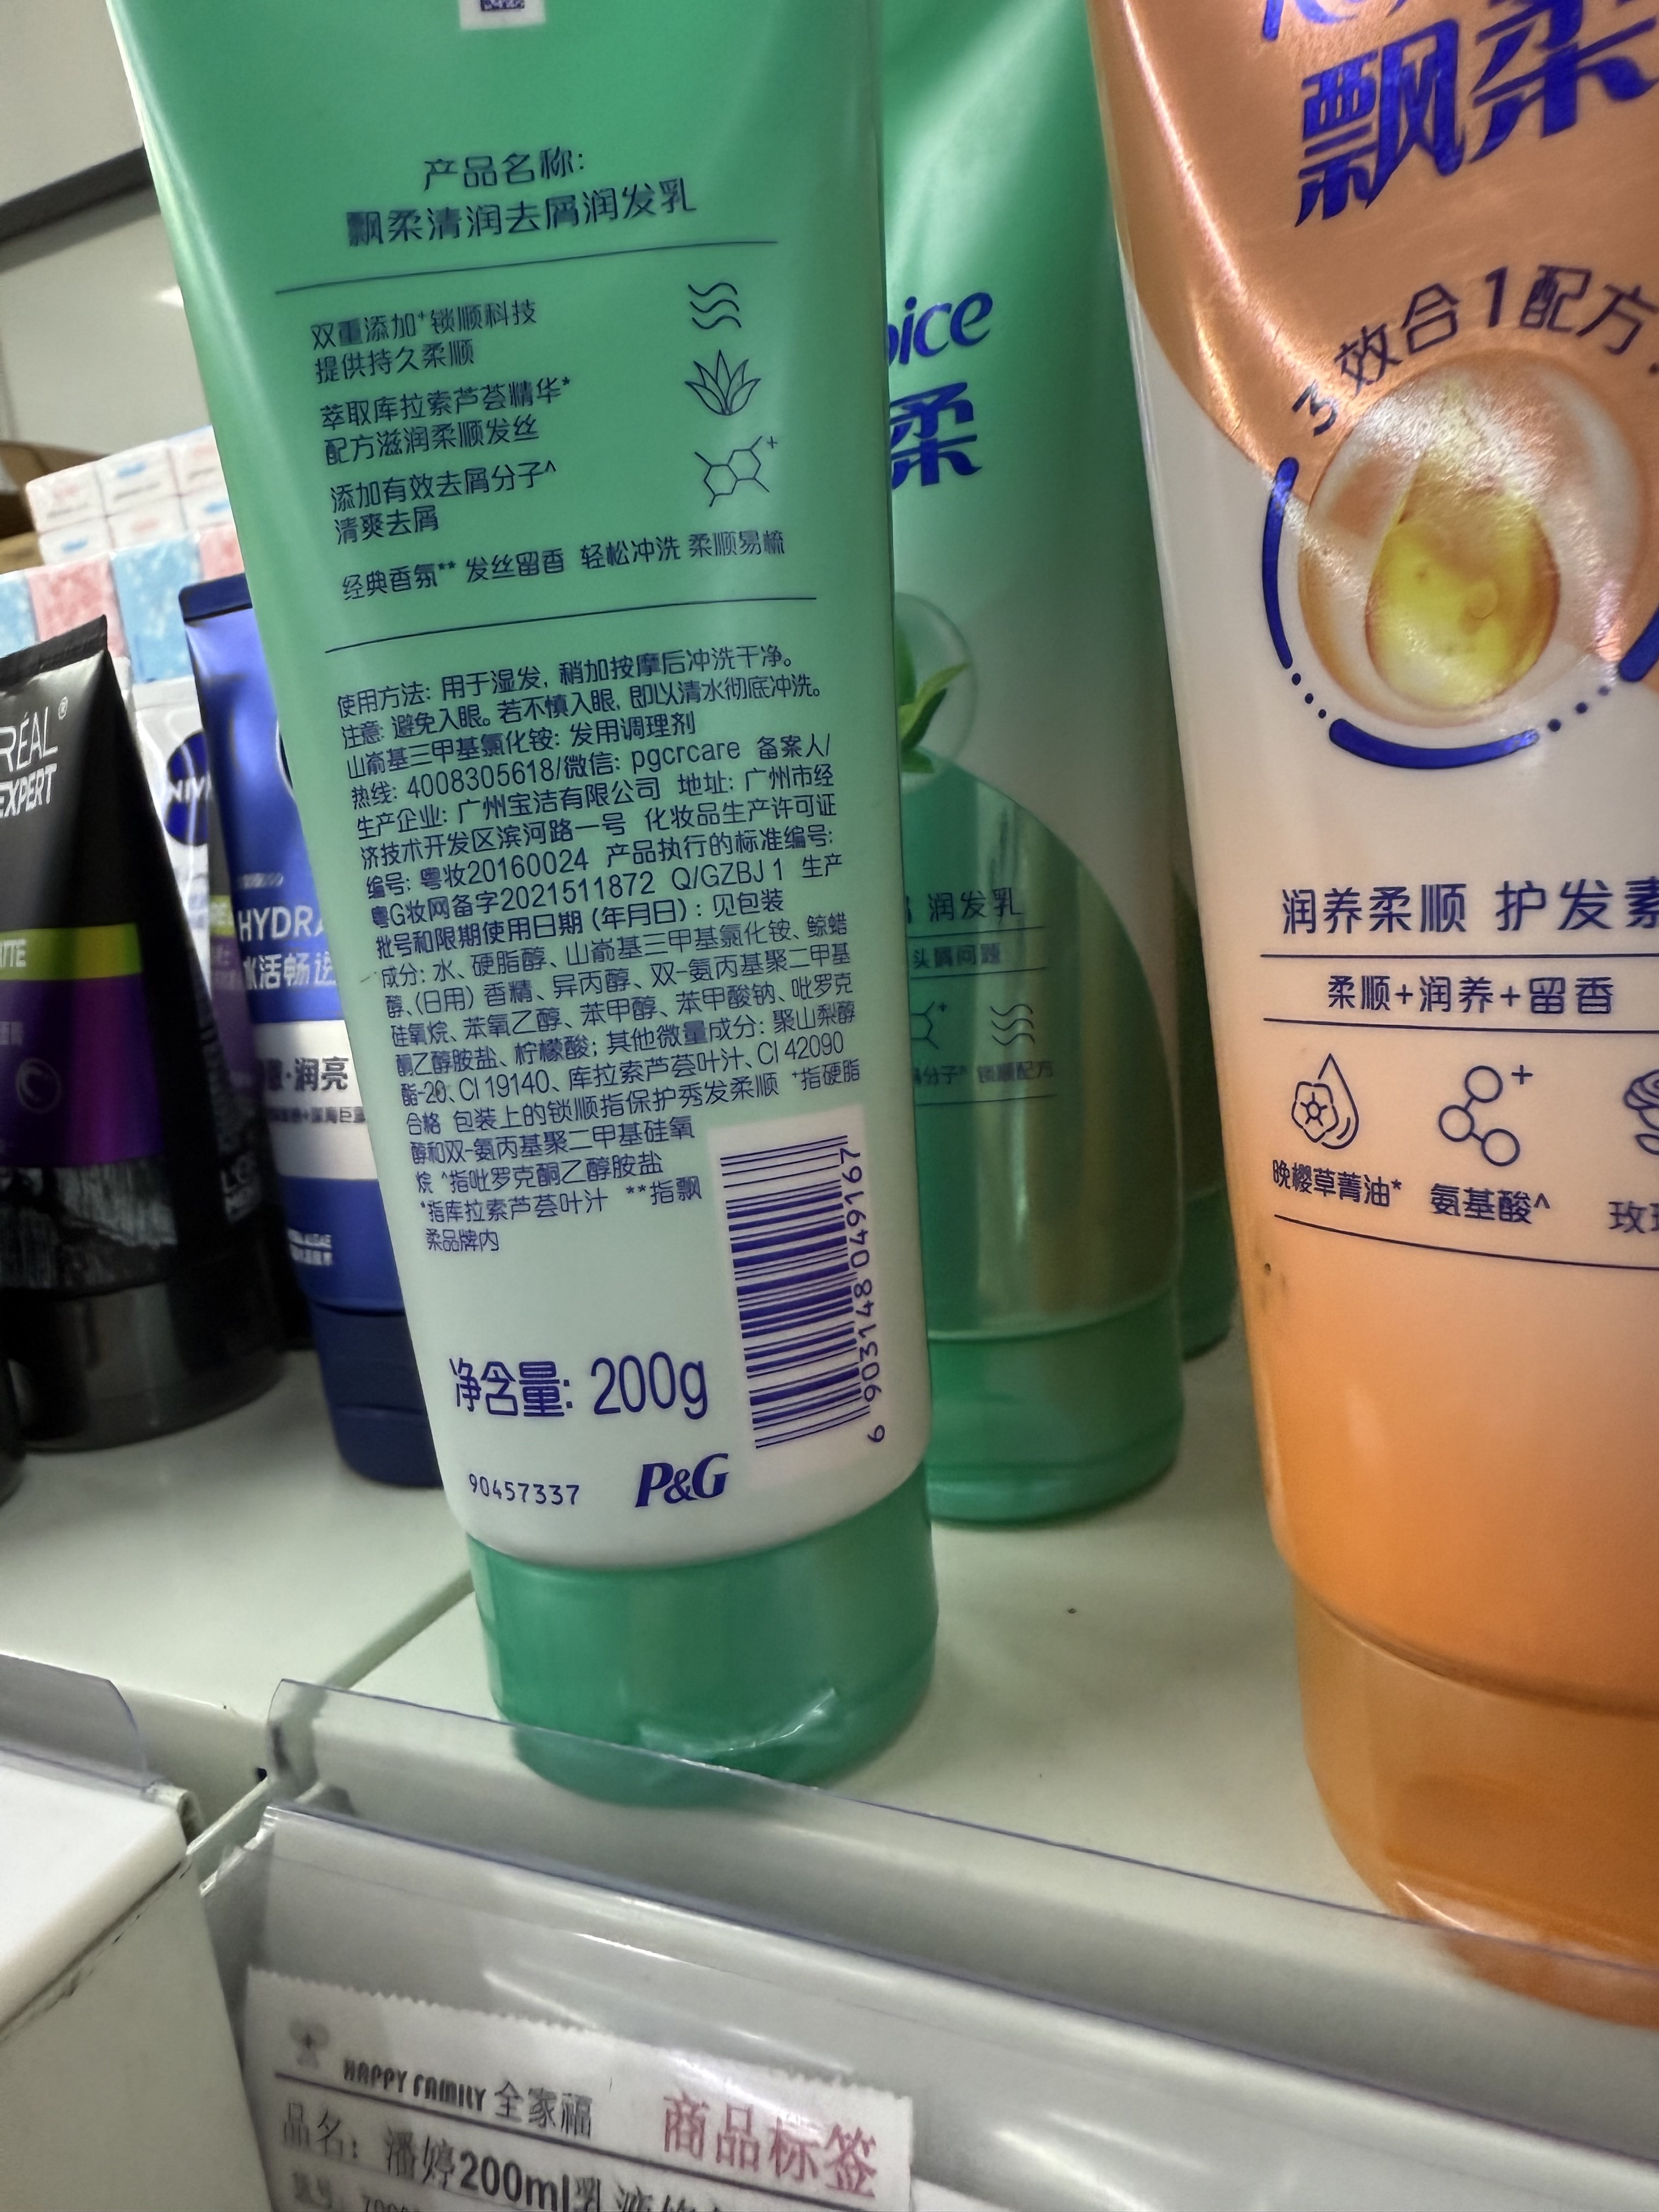bar: (708, 1130, 889, 1460)
